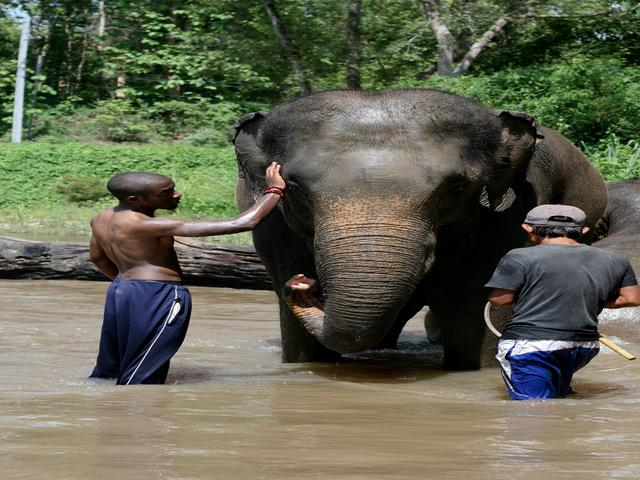elephant: (189, 53, 625, 349)
